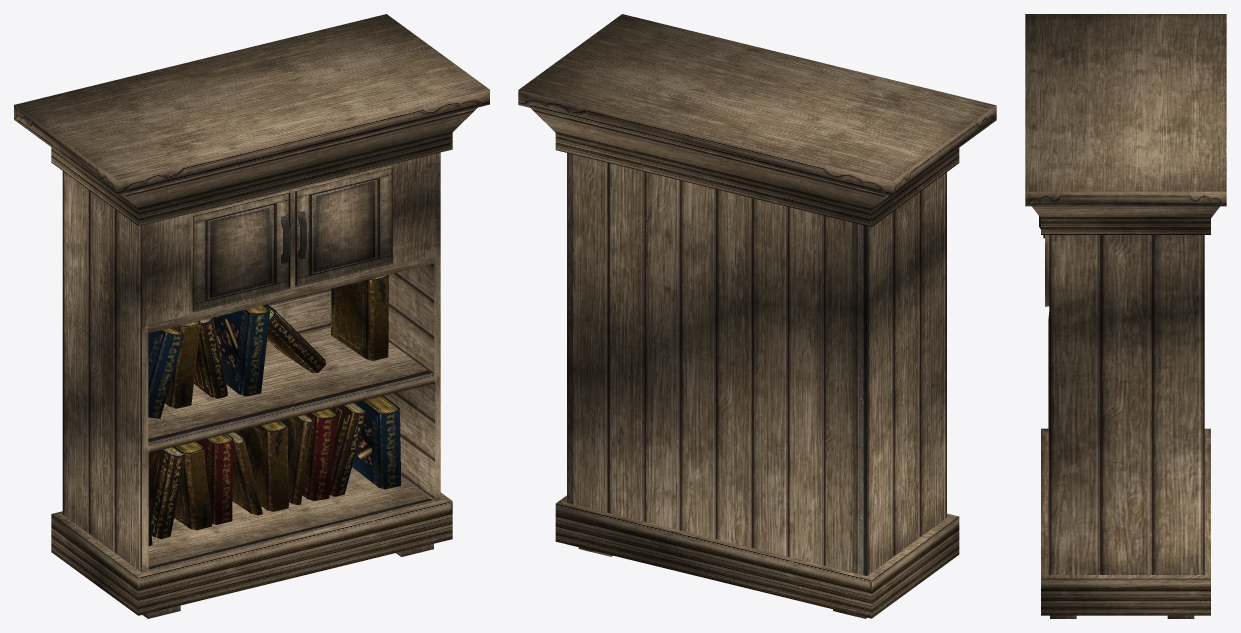
File: GS_VOB_BOOKCASE_YELLOW_02_2_KOZA.glb
3 views of the same model, side by side, from view 1: azimuth 30°, elevation 25°; view 2: azimuth 150°, elevation 25°; view 3: azimuth 270°, elevation 25° (orthographic). The views are drawn at different scales.
Parts seen in each view (by area): view 1: Mesh; view 2: Mesh; view 3: Mesh.
Part boxes in pixels (left/top/right/bottom): Mesh: left=14, top=14, right=489, bottom=618; Mesh: left=518, top=14, right=996, bottom=618; Mesh: left=1025, top=14, right=1226, bottom=618.
Bounding box in the file's own units: 1.41 × 1.66 × 0.6779.
Materials: 5 (5 with a texture image).
